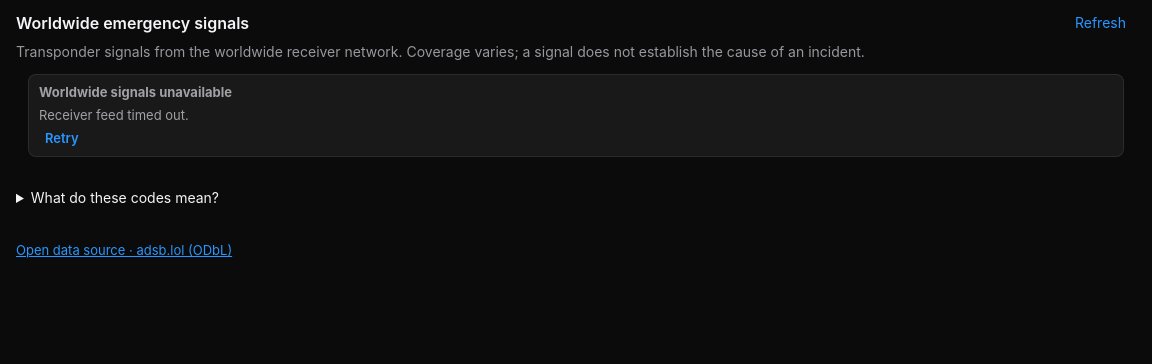
Test: does not present an outage as no emergencies and recovers on retry
Expected: the text "Receiver feed timed out." is shown, [39,107,189,123]
Click the button "Retry": click(62, 139) [45,129,79,148]
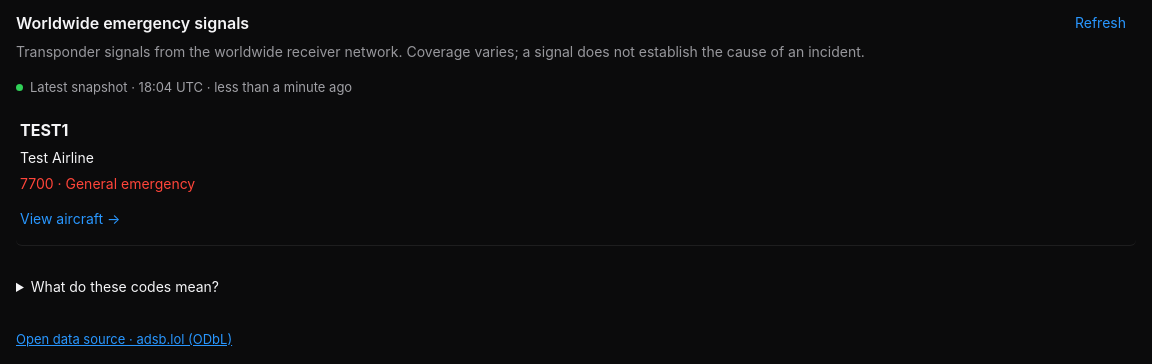
Now the button "TEST1 Test Airline 7700 · General emergency View aircraft →" is enabled, box [16,102,1136,246]
